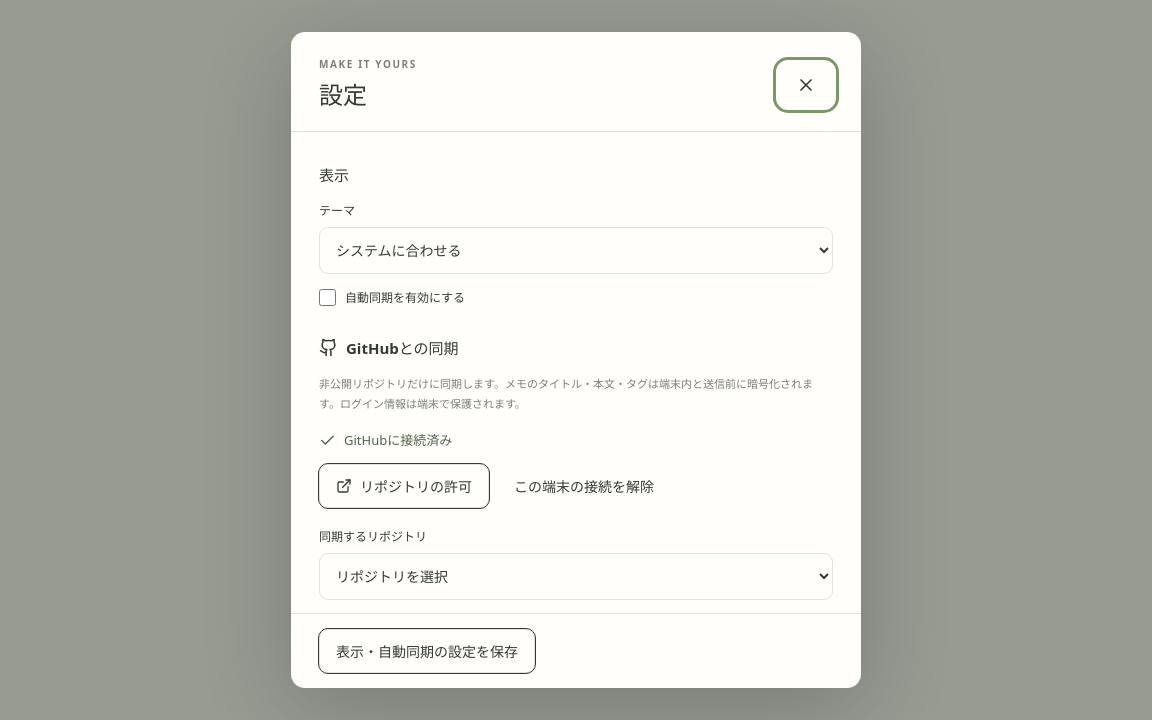
Scenario: resumes an interrupted rotation using the persisted key without requesting it again
This screenshot has width=1152, height=720.
Select "octocat/notes（非公開）" in the dropdown labelled "同期するリポジトリ" at (576, 577), box [319, 553, 833, 600]
(page scrolled)
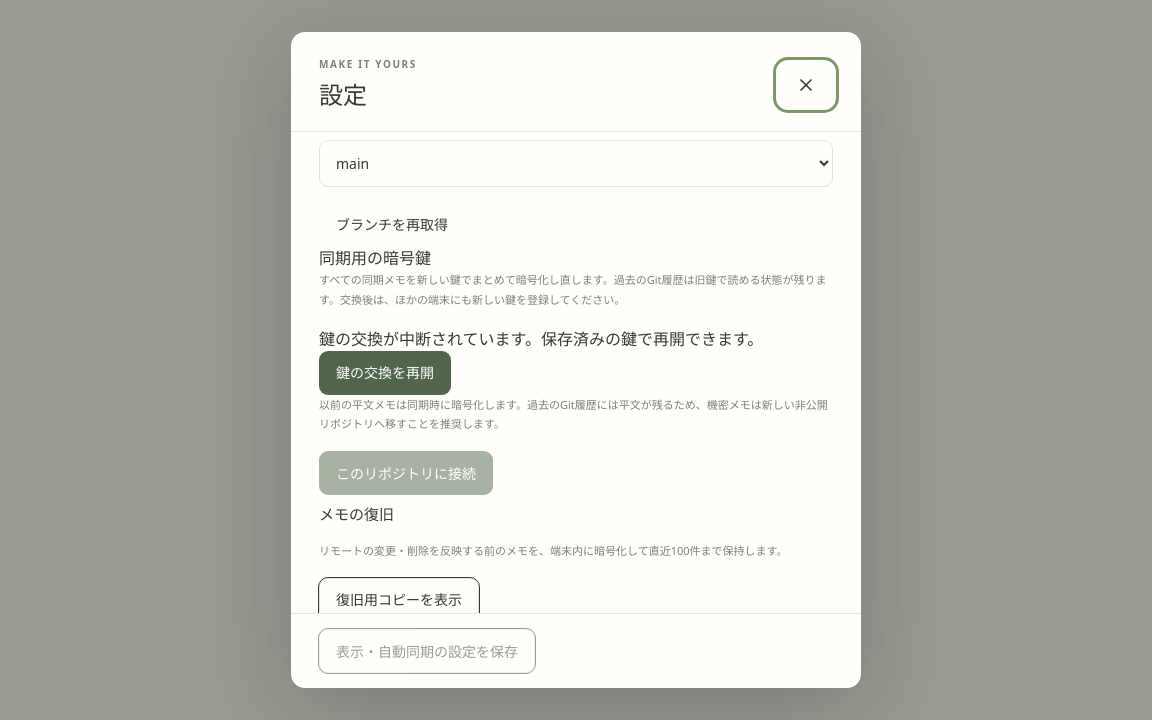
Expected: the button "このリポジトリに接続" is disabled, [319, 451, 493, 495]
Click the button "鍵の交換を再開" at (385, 373), box [319, 351, 451, 395]
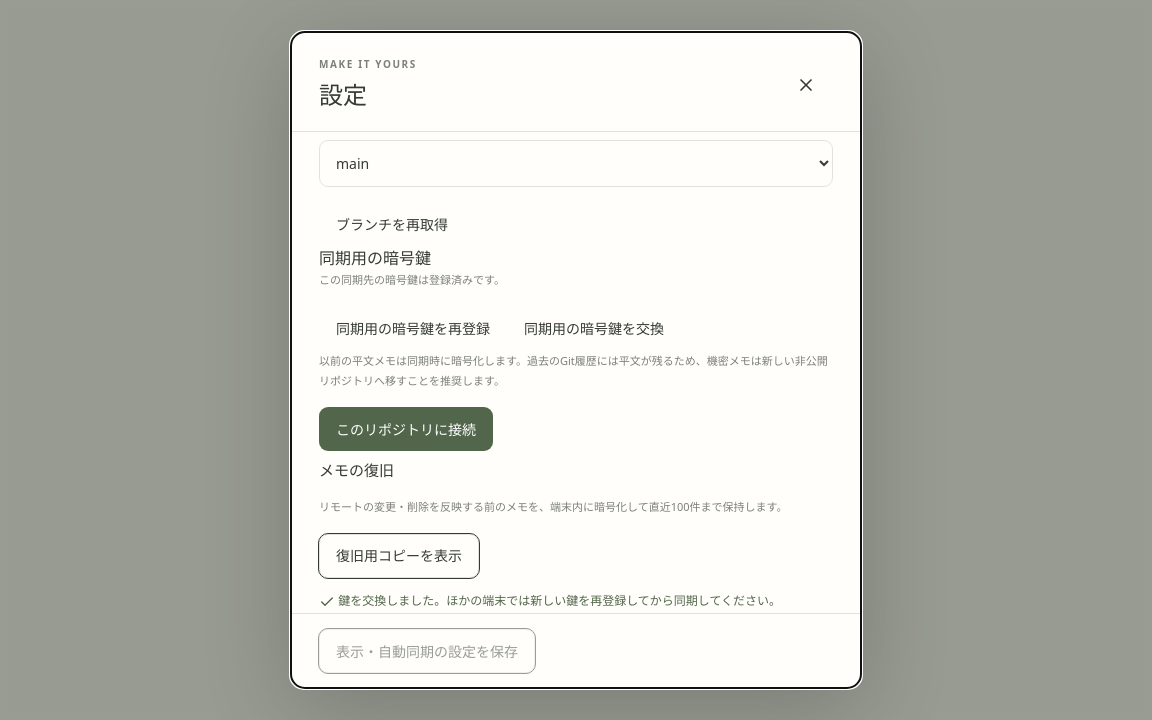
Expected: the button "このリポジトリに接続" is enabled, [319, 408, 493, 452]
